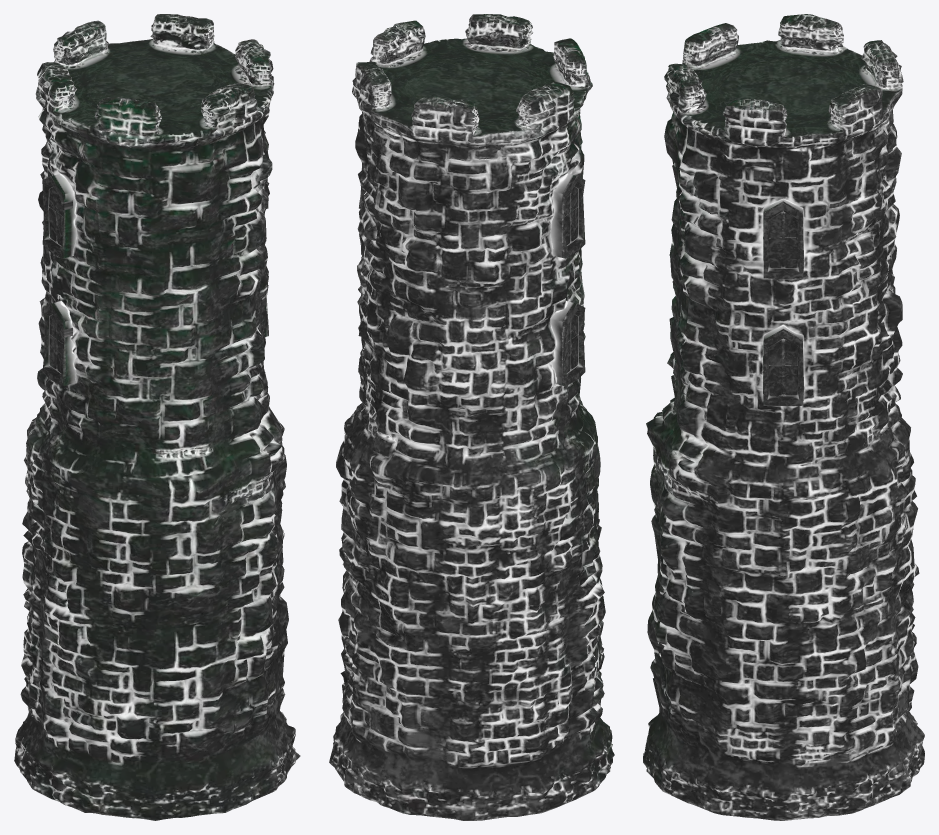
File: BLD_NeuTower.glb
3 views of the same model, side by side, from view 1: azimuth 30°, elevation 25°; view 2: azimuth 150°, elevation 25°; view 3: azimuth 270°, elevation 25° (orthographic).
Visible parts, largest first — view 1: Tower2_lambert1_0; view 2: Tower2_lambert1_0; view 3: Tower2_lambert1_0.
Boxes of the visible parts, x1=… form: Tower2_lambert1_0: x1=14, y1=14, x2=300, y2=820; Tower2_lambert1_0: x1=329, y1=14, x2=614, y2=820; Tower2_lambert1_0: x1=643, y1=14, x2=924, y2=820.
Bounding box in the file's own units: 322 × 885 × 322.
1 material, 1 textured.
